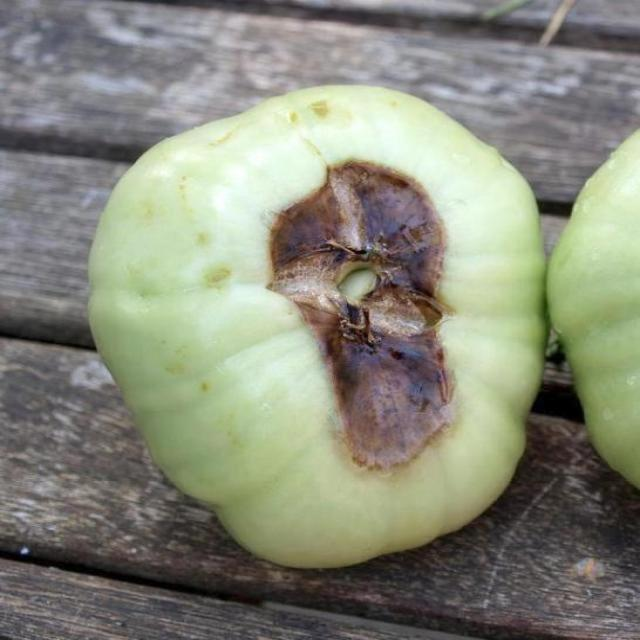Blossom End Rot Fruit: (177, 101, 305, 317)
